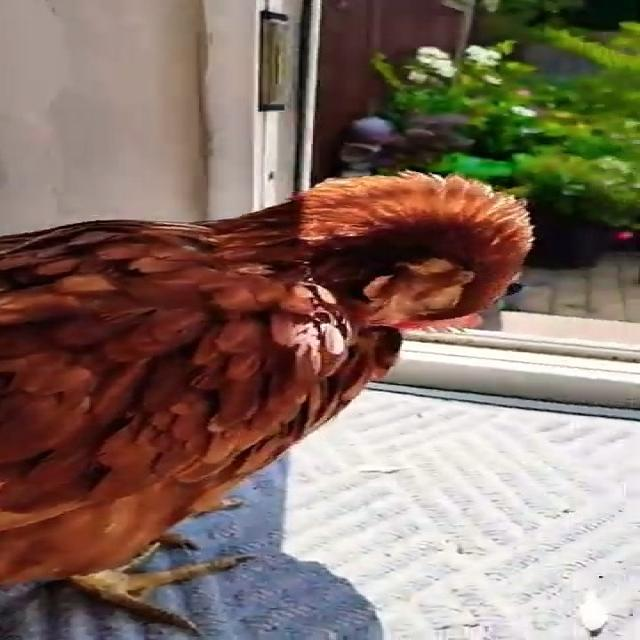self preening: (0, 150, 569, 626)
